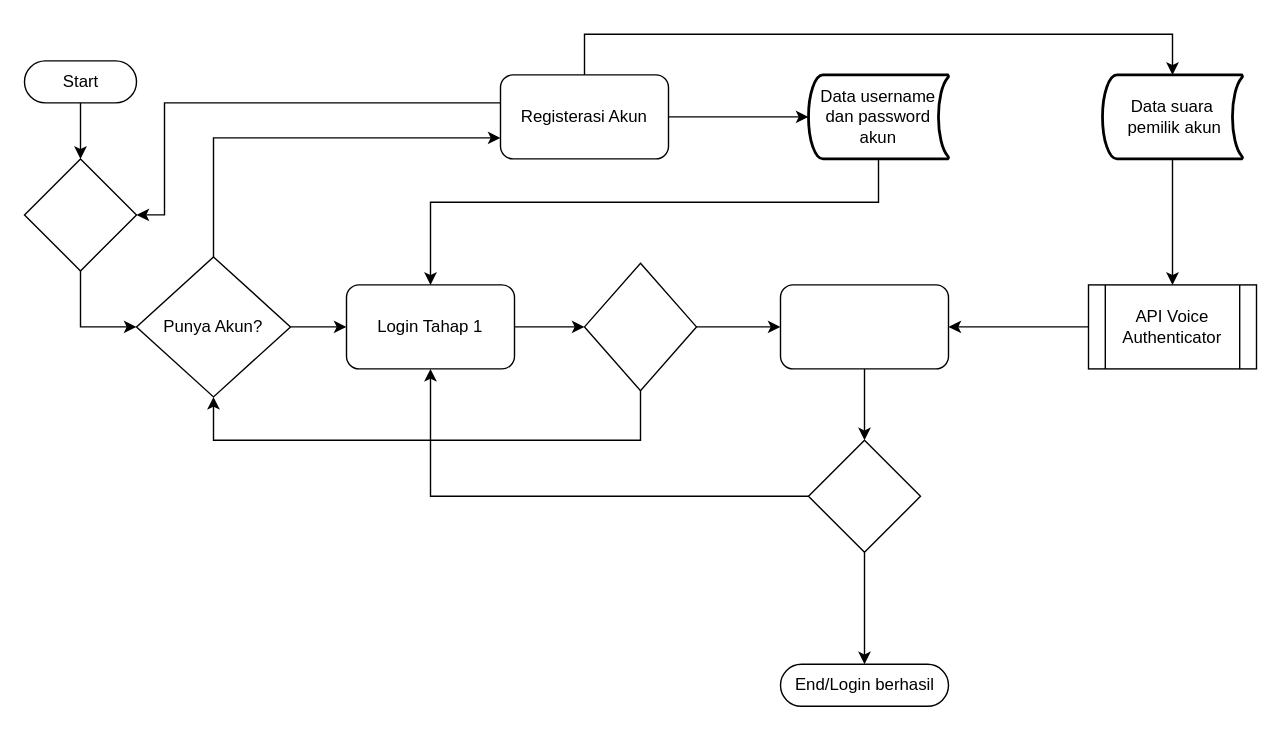
Some shapes in this 1281 by 731 pixel diagram are drawn without their labels. The shapes that lost their labels are listed below. From the top down, each one's centre as x and y in pixels, then its label:
(79,214): Login?
(639,326): Valid?
(863,326): Login Tahap 2
(863,495): Sesuai?
